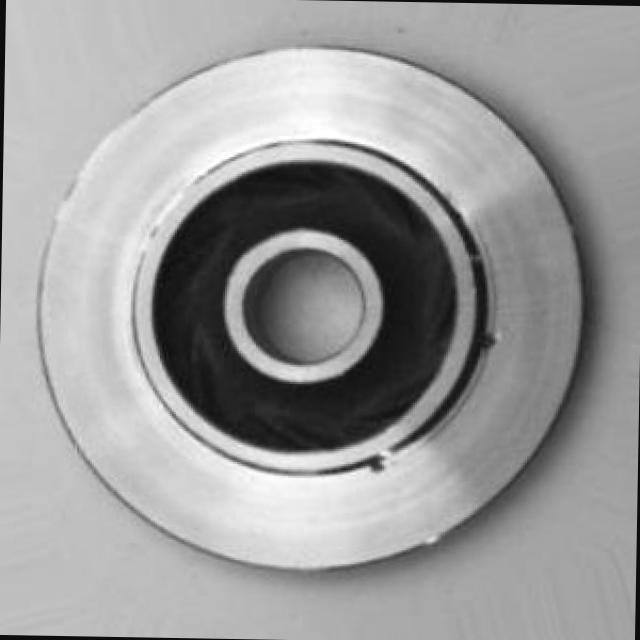Defect: (479, 328, 502, 359)
